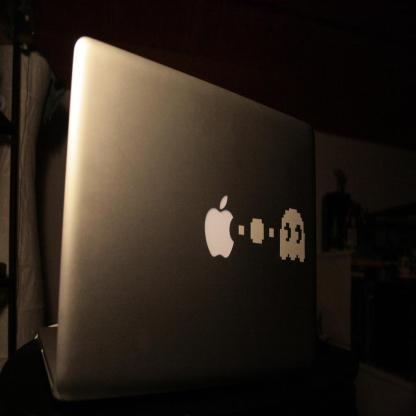board: (38, 34, 316, 397)
